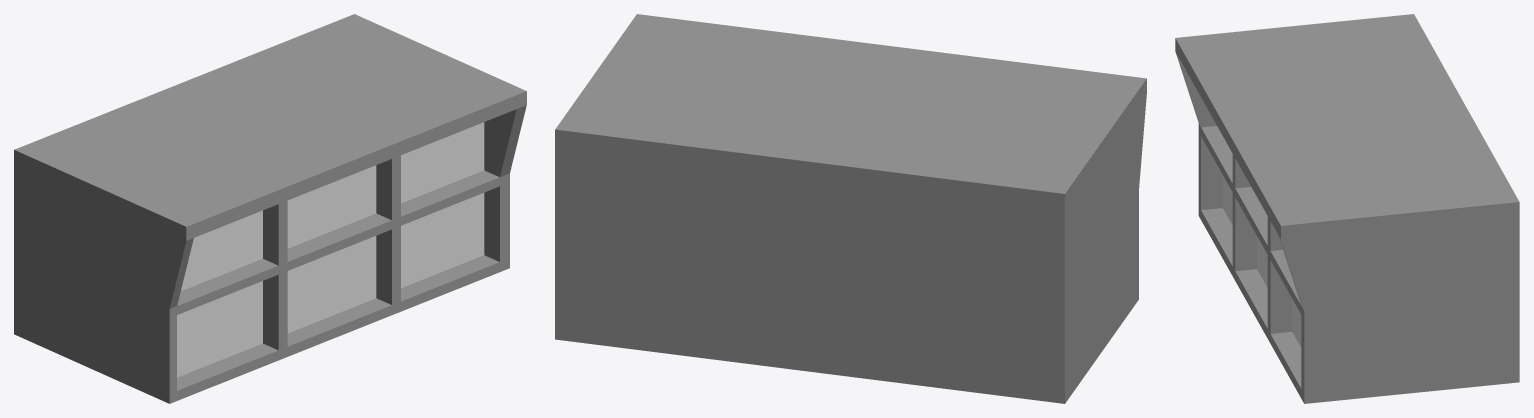
Rendered from warnet.fbx.
The picture shows the model from 3 angles, left to right: view 1: azimuth 30°, elevation 25°; view 2: azimuth 150°, elevation 25°; view 3: azimuth 270°, elevation 25°; orthographic projection. The views are drawn at different scales.
Parts seen in each view (by area): view 1: Cube.100; view 2: Cube.100; view 3: Cube.100.
Boxes of the visible parts, x1=… form: Cube.100: x1=14, y1=14, x2=526, y2=403; Cube.100: x1=555, y1=14, x2=1146, y2=403; Cube.100: x1=1175, y1=14, x2=1519, y2=403.
Size of the model in its own units: 3828 by 1519 by 2627.
